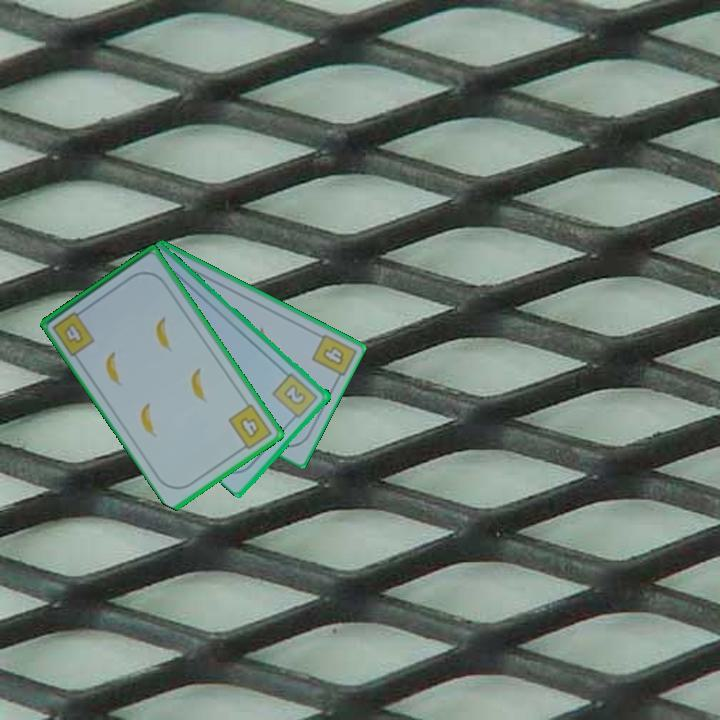2b: (269, 370, 321, 424)
4b: (225, 400, 275, 454), (49, 305, 98, 359), (319, 342, 348, 368)
